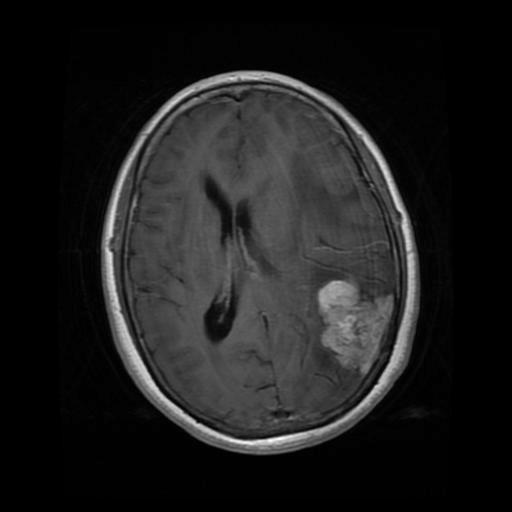Tumour-Pituitary: (292, 265, 403, 384)
